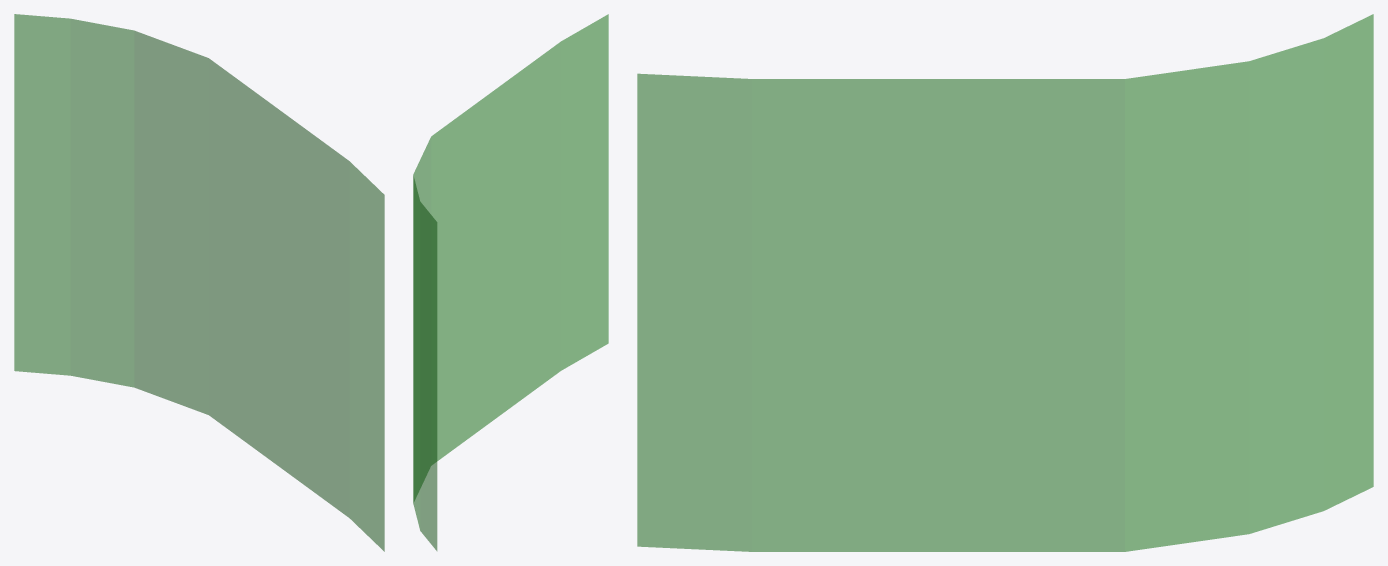
File: evil_petoraB_airwall.air_wall3.obj
3 renders of one model, left to right at view 1: azimuth 30°, elevation 25°; view 2: azimuth 150°, elevation 25°; view 3: azimuth 270°, elevation 25°, orthographic. The views are drawn at different scales.
Size of the model in its own units: 6.19 by 21 by 29.62.
